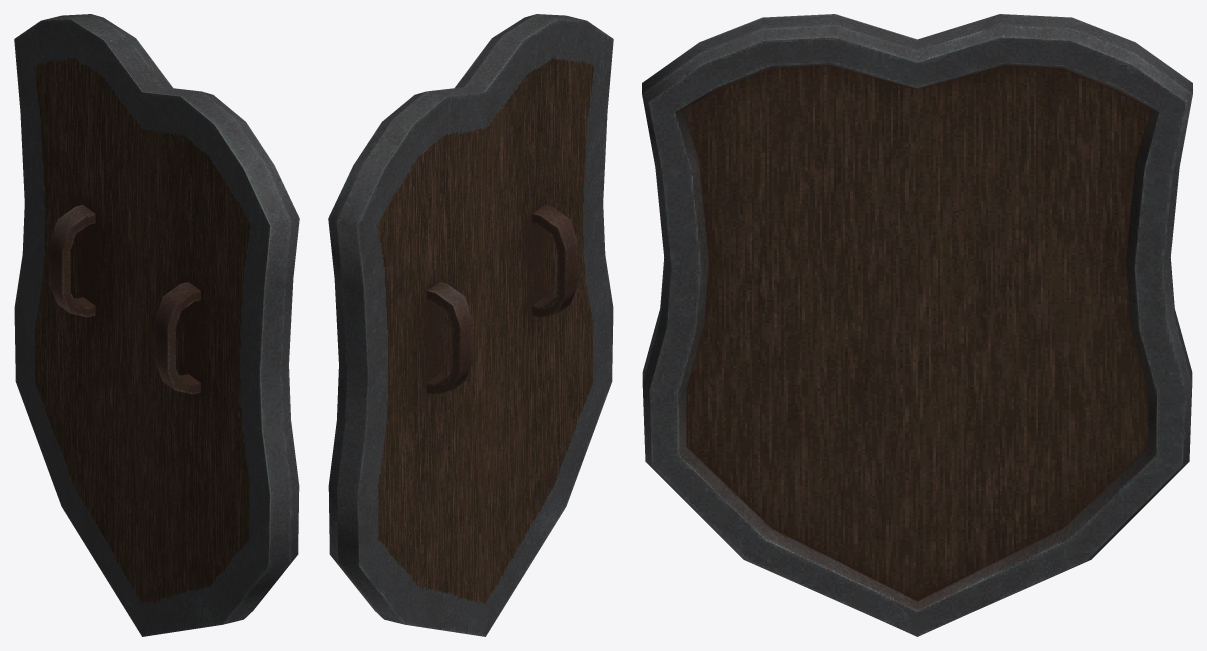
File: Shield.glb
3 views of the same model, side by side, from view 1: azimuth 30°, elevation 25°; view 2: azimuth 150°, elevation 25°; view 3: azimuth 270°, elevation 25° (orthographic). The views are drawn at different scales.
Parts seen in each view (by area): view 1: Shield; view 2: Shield; view 3: Shield.
Boxes of the visible parts, <box> form: Shield: <box>14,14,299,636</box>; Shield: <box>328,14,613,636</box>; Shield: <box>642,14,1192,636</box>.
Bounding box in the file's own units: 0.1881 × 1.55 × 1.27.
1 material, 1 textured.
